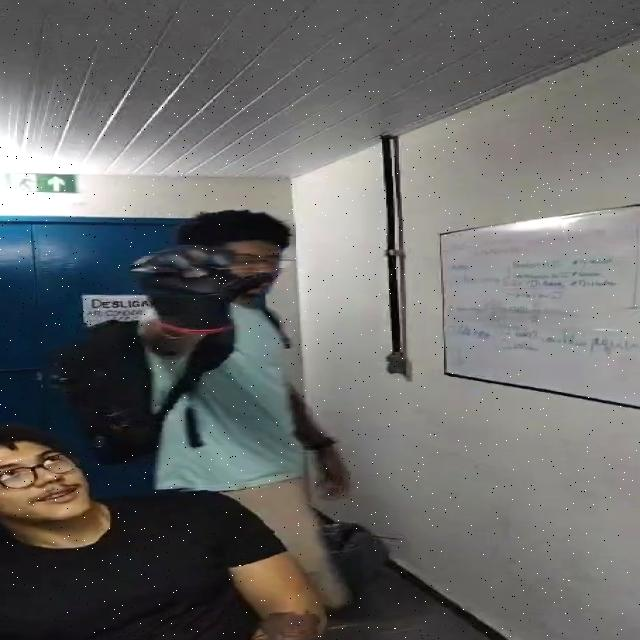Gloves: (134, 246, 268, 336)
